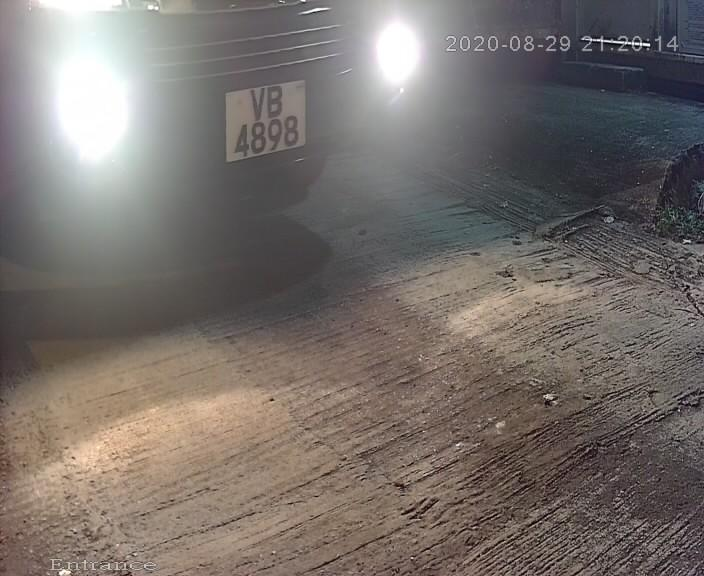License Plate: (211, 62, 318, 175)
